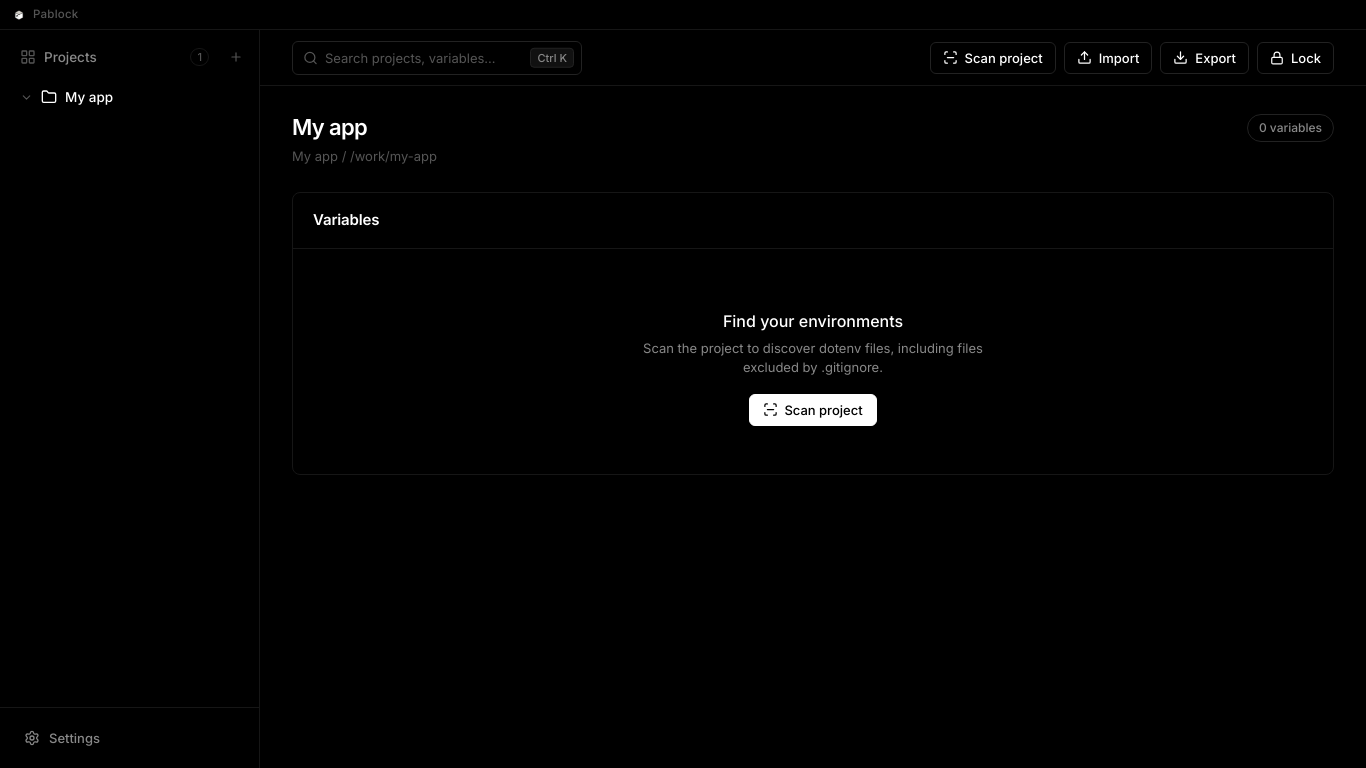
Test: vault workflows › scans the project and shows discovered profiles
What coordinates should you click on to do the following:
click the button "Scan project" in the row of "Ctrl K"
I would click on:
 (993, 58)
Its box is [930, 42, 1056, 74].
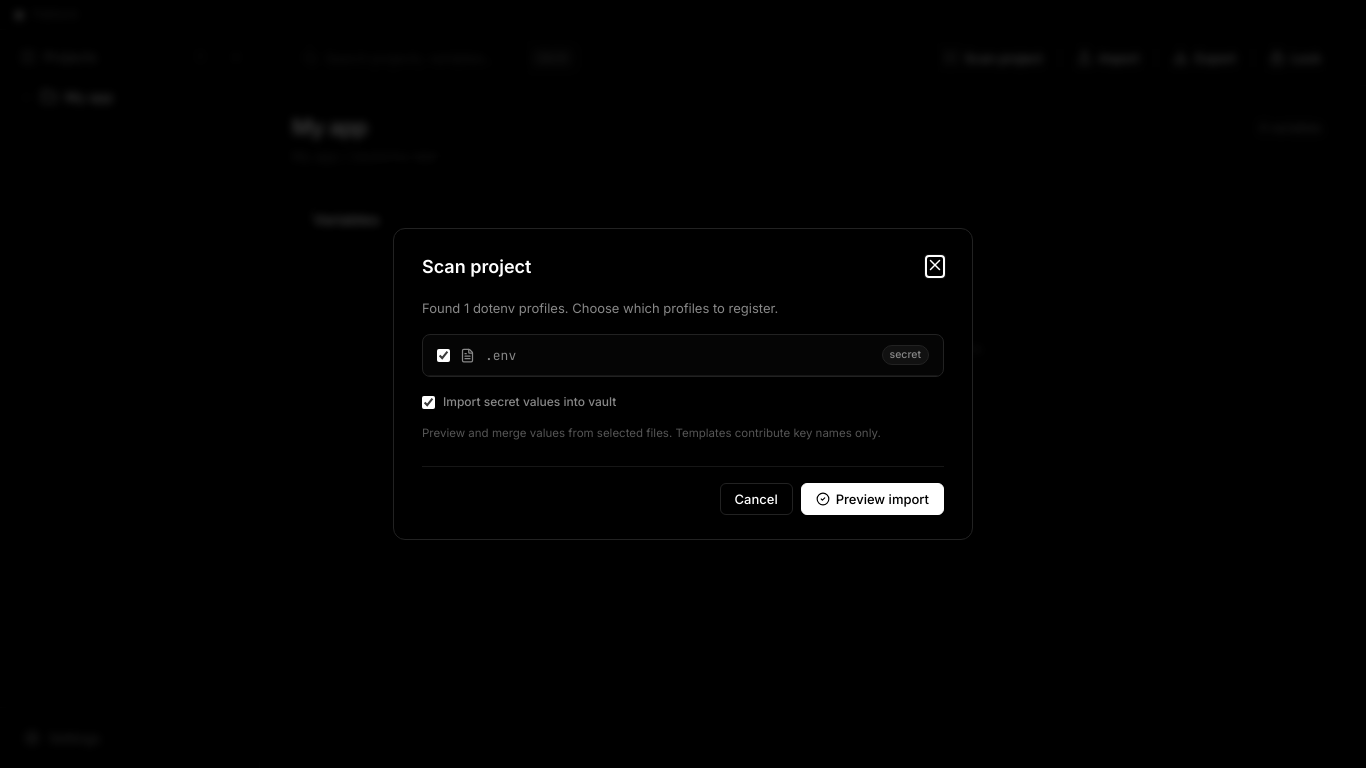
What coordinates should you click on to do the following:
click the button "Preview import"
I would click on:
 (872, 499)
Its box is [801, 483, 944, 515].
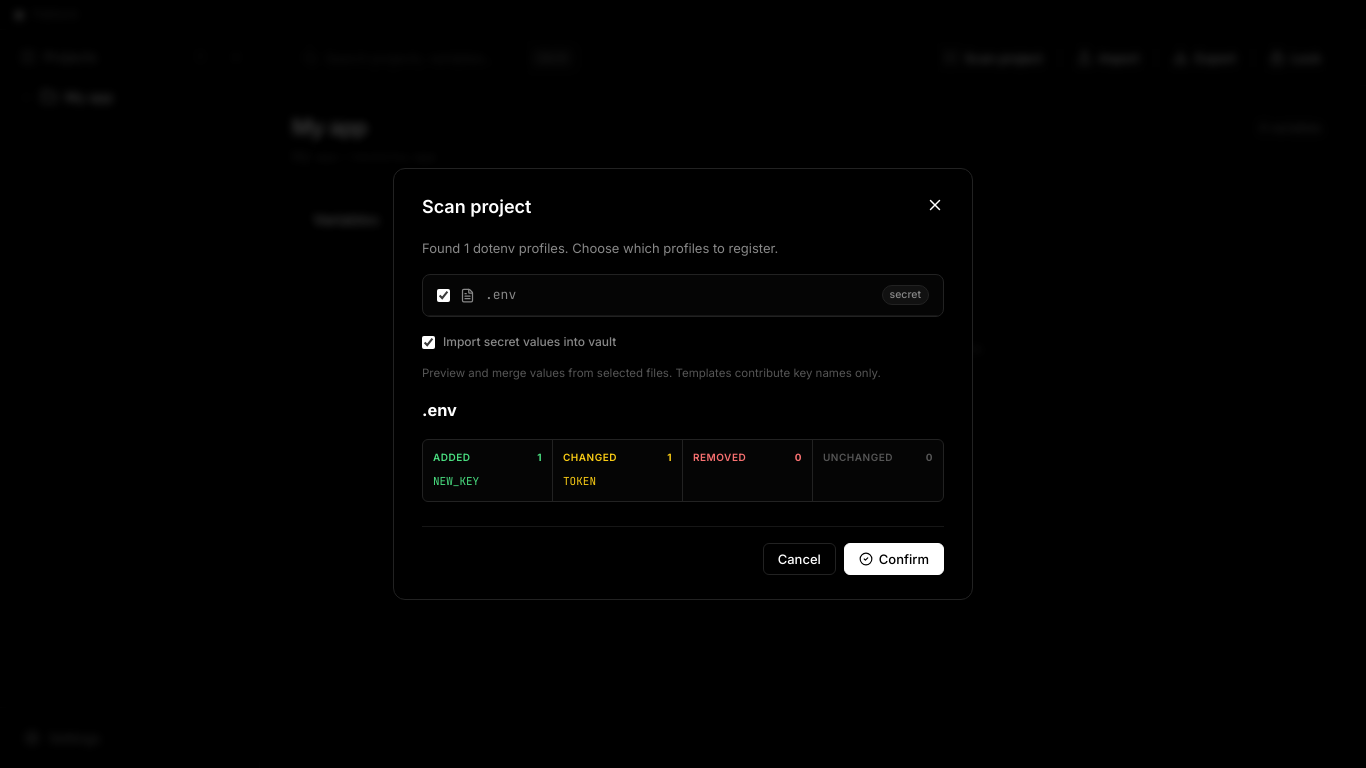
Expected: the list item "NEW_KEY" is shown, [433, 474, 479, 488]
What coordinates should you click on to do the following:
click the button "Confirm"
I would click on:
 (894, 559)
Its box is [844, 543, 944, 575].
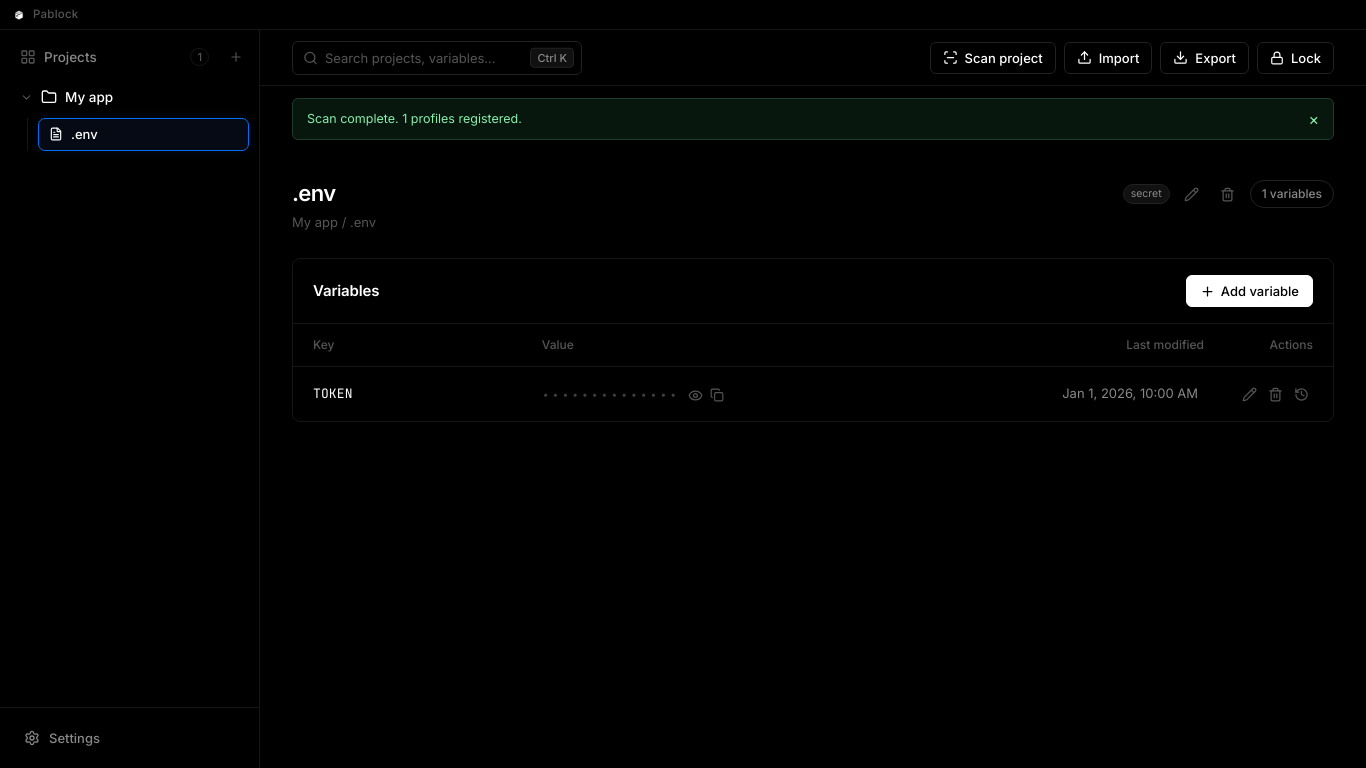
Expected: the text "TOKEN" is shown, [293, 366, 522, 421]
Expected: the text "Scan complete. 1 profiles registered." is shown, [307, 110, 522, 128]
